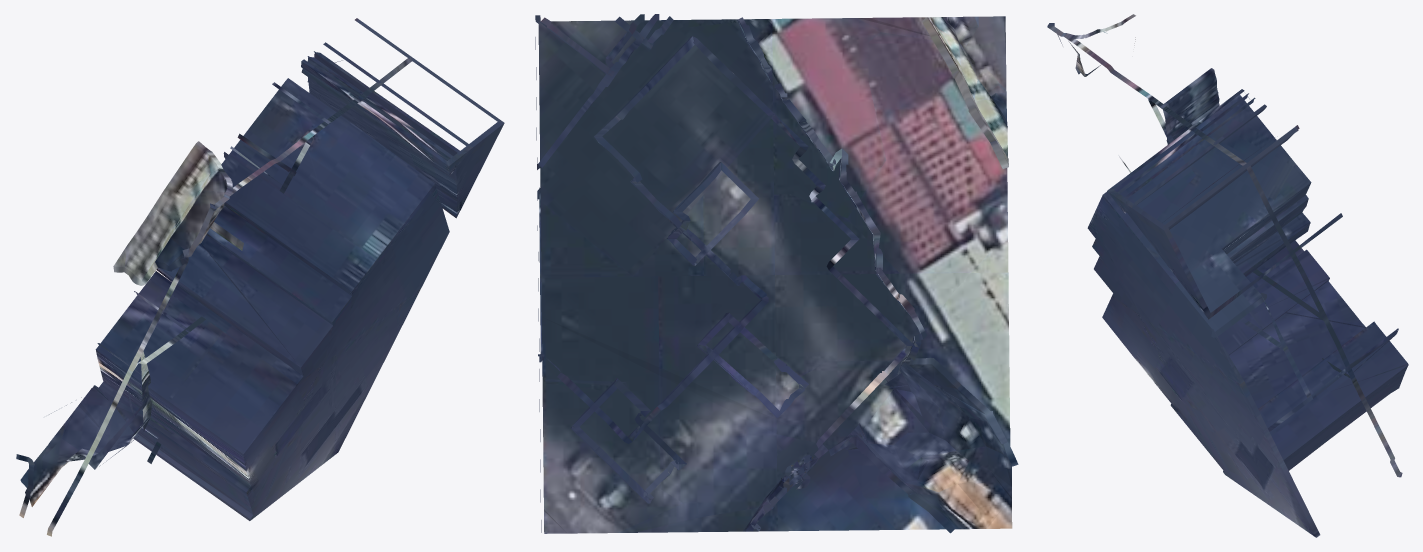
The picture shows the model from 3 angles, left to right: view 1: azimuth 30°, elevation 25°; view 2: azimuth 150°, elevation 25°; view 3: azimuth 270°, elevation 25°; orthographic projection. The views are drawn at different scales.
Size of the model in its own units: 44.88 by 41.56 by 32.57.
Materials: 2 (2 with a texture image).
